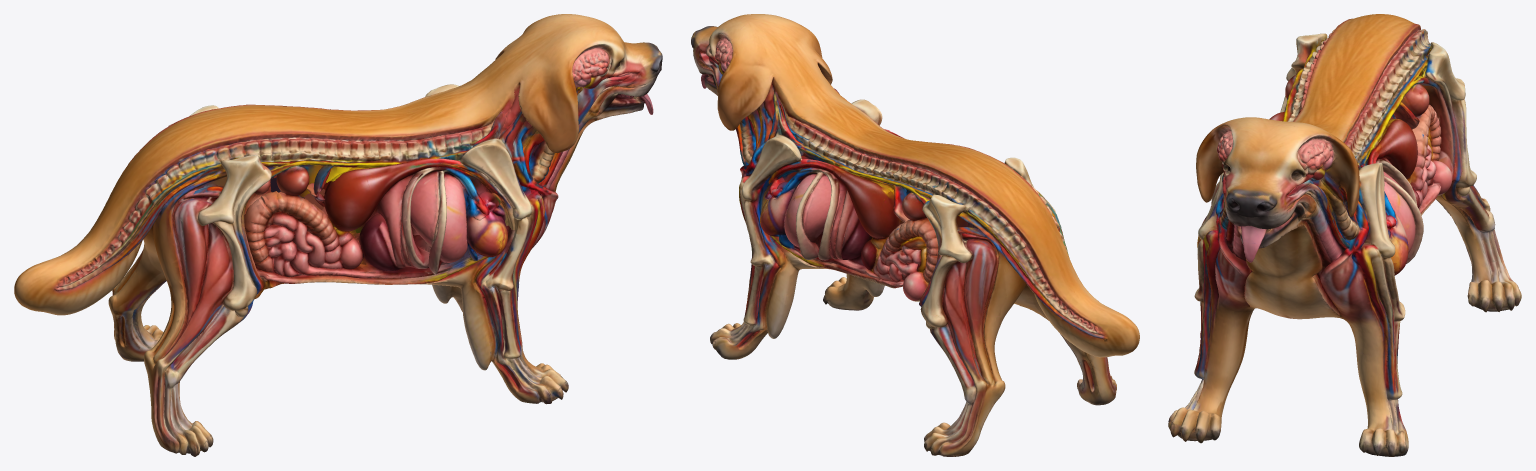
The model's file is perro-anatomia-3d.glb.
3 views of the same model, side by side, from view 1: azimuth 30°, elevation 25°; view 2: azimuth 150°, elevation 25°; view 3: azimuth 270°, elevation 25° (orthographic). The views are drawn at different scales.
Parts seen in each view (by area): view 1: tmp7tbdmo5gobj; view 2: tmp7tbdmo5gobj; view 3: tmp7tbdmo5gobj.
Boxes of the visible parts, left/top/right/bottom form: tmp7tbdmo5gobj: left=14, top=14, right=662, bottom=456; tmp7tbdmo5gobj: left=691, top=14, right=1139, bottom=456; tmp7tbdmo5gobj: left=1168, top=14, right=1521, bottom=456.
Size of the model in its own units: 1 by 0.5472 by 0.5068.
Materials: 1 (1 with a texture image).
